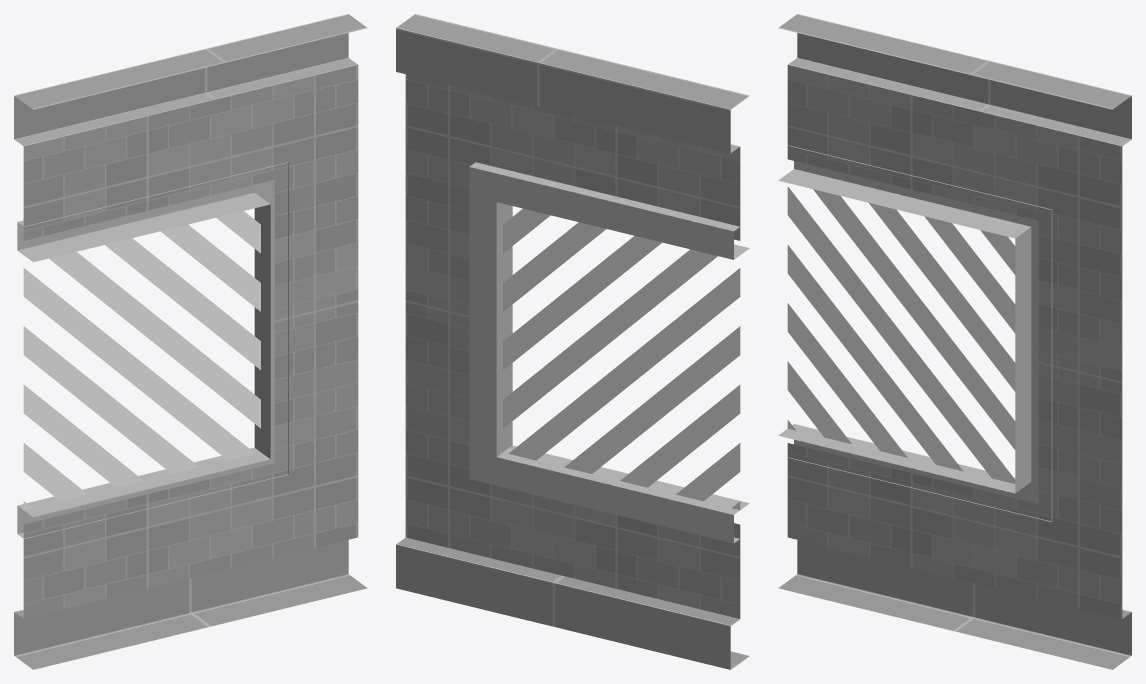
The model's file is proto_wall_windows_L_01.fbx.
The picture shows the model from 3 angles, left to right: view 1: azimuth 30°, elevation 25°; view 2: azimuth 150°, elevation 25°; view 3: azimuth 330°, elevation 25°; orthographic projection.
Parts seen in each view (by area): view 1: proto_wall_windows_L_01; view 2: proto_wall_windows_L_01; view 3: proto_wall_windows_L_01.
Part boxes in pixels (bbox=[...]): proto_wall_windows_L_01: bbox=[14, 14, 367, 669]; proto_wall_windows_L_01: bbox=[396, 14, 749, 669]; proto_wall_windows_L_01: bbox=[778, 14, 1131, 669].
Bounding box in the file's own units: 200 × 320 × 20.
